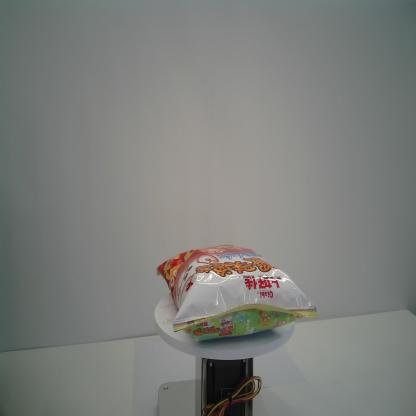Puffed Food: (156, 243, 320, 342)
